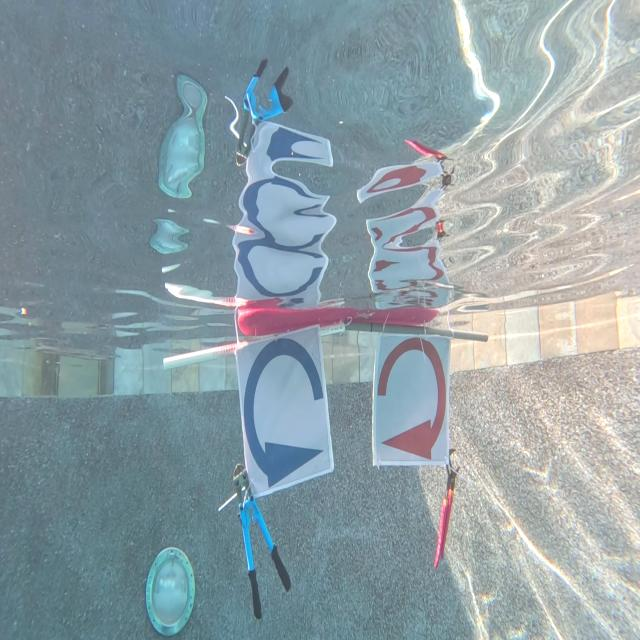blue_side: (237, 330, 335, 494)
red_side: (372, 330, 448, 470)
